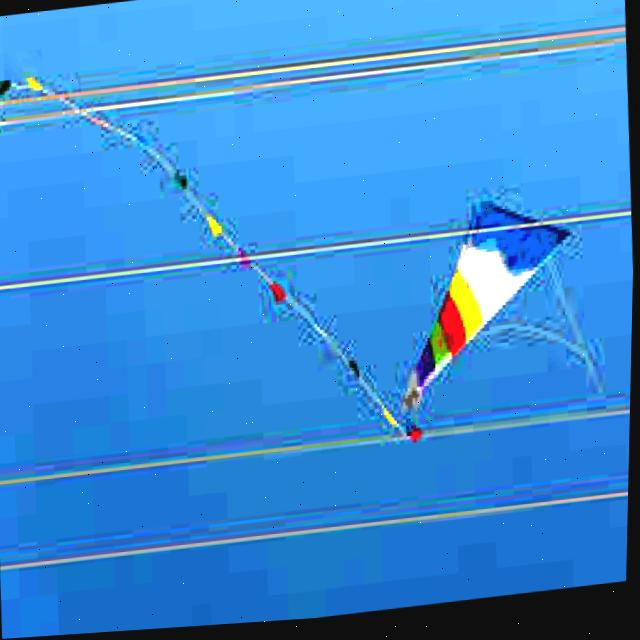obstruction: (405, 214, 569, 415), (253, 274, 418, 445), (82, 114, 170, 173), (175, 176, 240, 252)
wires: (0, 37, 624, 130), (0, 392, 409, 482), (195, 221, 630, 269), (428, 415, 632, 440)
